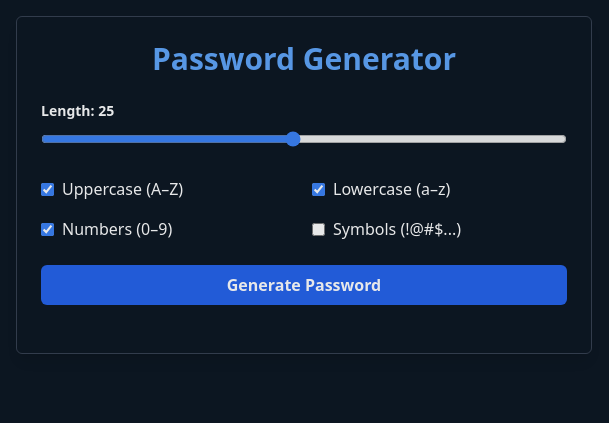
PasswordGenerator component › generates a password with only symbols
This screenshot has width=609, height=423.
submit input
Click the checkbox labelled "Uppercase (A–Z)" at (48, 189), box [41, 182, 54, 196]
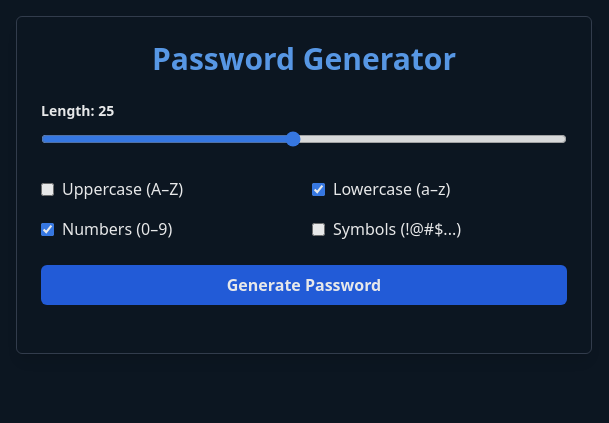
Click the checkbox labelled "Lowercase (a–z)" at (318, 189), box [312, 182, 325, 196]
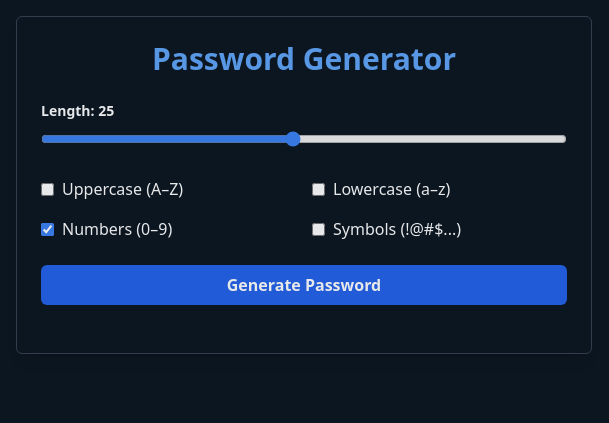
Click the checkbox labelled "Numbers (0–9)" at (48, 229), box [41, 222, 54, 236]
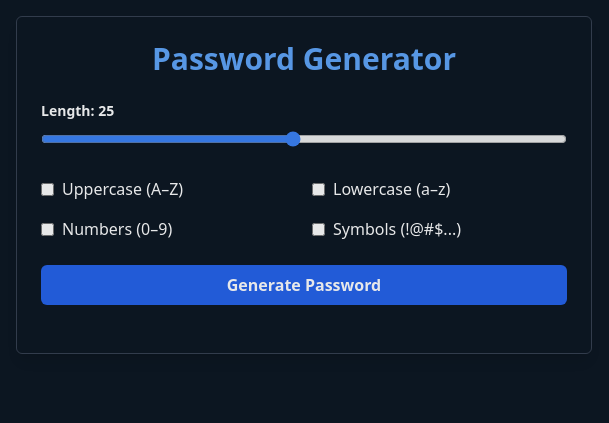
Click the checkbox labelled "Symbols (!@#$...)" at (318, 229), box [312, 222, 325, 236]
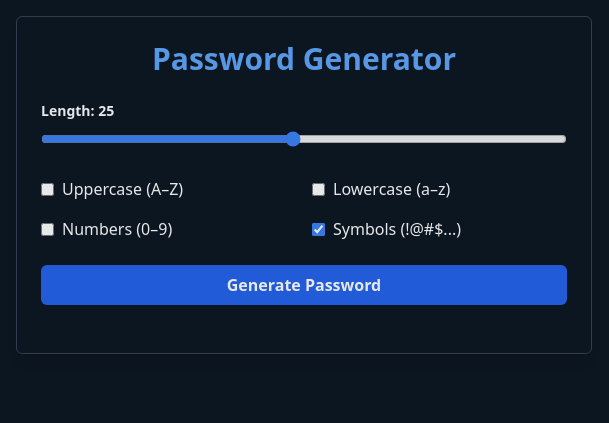
Click the button "Generate Password" at (304, 285), box [41, 265, 567, 305]
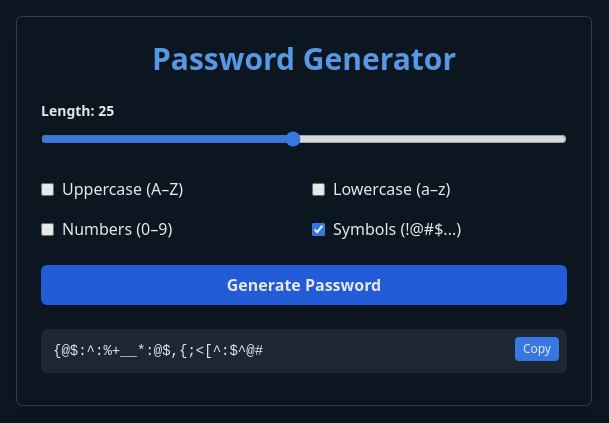
Expected: the text "{@$:^:%+__*:@$,{;<[^:$^@#" is shown, [41, 329, 567, 373]
